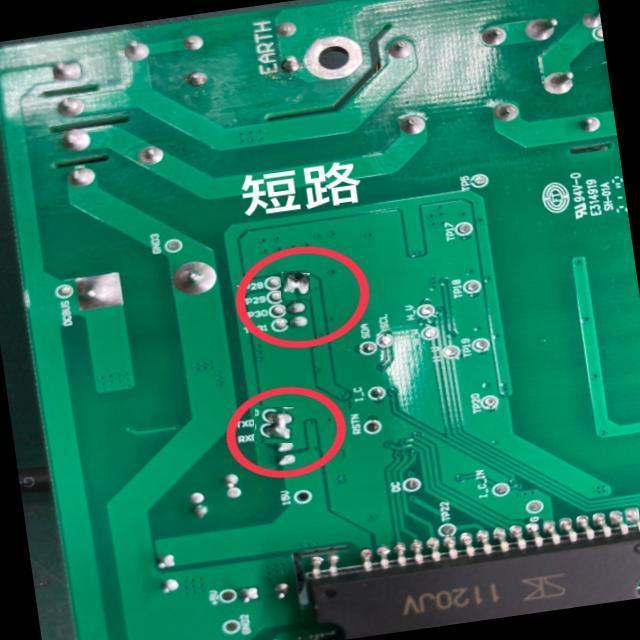damged: (254, 406, 297, 443), (281, 272, 310, 301)
